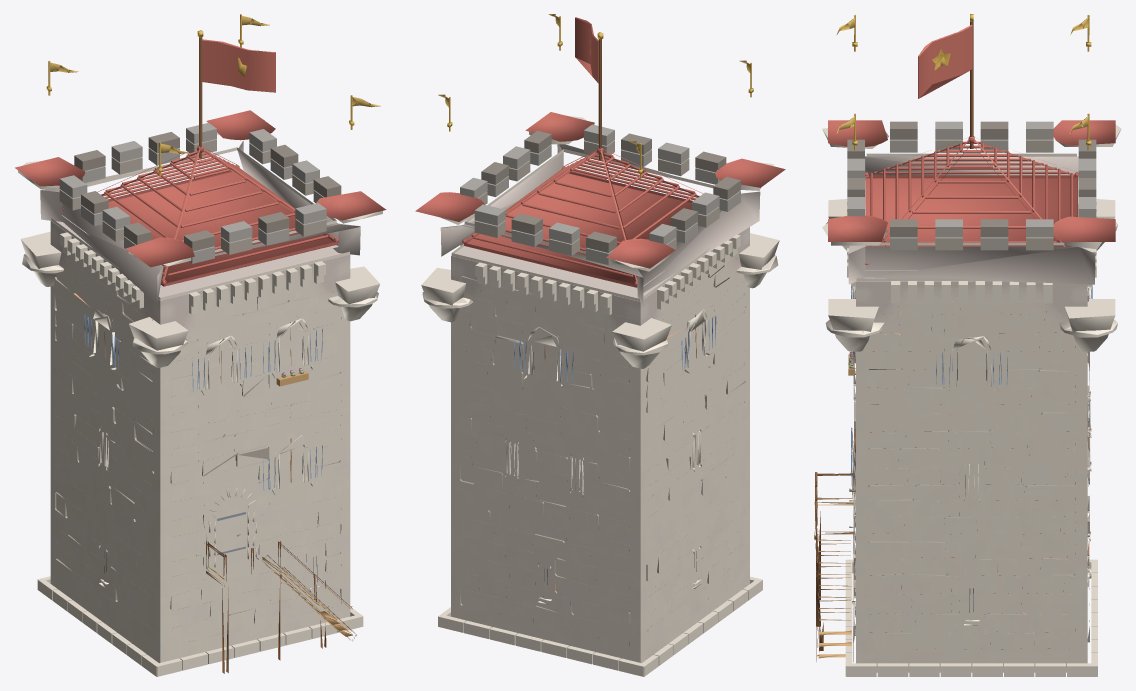
3 views of the same model, side by side, from view 1: azimuth 30°, elevation 25°; view 2: azimuth 150°, elevation 25°; view 3: azimuth 270°, elevation 25° (orthographic). The views are drawn at different scales.
Parts seen in each view (by area): view 1: keep_body, keep_details, keep_masonry, keep_trim; view 2: keep_body, keep_details, keep_masonry, keep_trim; view 3: keep_body, keep_details, keep_masonry, keep_trim.
Part boxes in pixels (<box>): keep_body: <box>15,110,386,662</box>; keep_details: <box>18,36,382,676</box>; keep_masonry: <box>54,122,341,638</box>; keep_trim: <box>46,14,380,377</box>; keep_body: <box>415,112,785,663</box>; keep_details: <box>421,39,779,676</box>; keep_masonry: <box>459,124,745,646</box>; keep_trim: <box>438,14,753,177</box>; keep_body: <box>828,120,1115,672</box>; keep_details: <box>814,21,1121,676</box>; keep_masonry: <box>847,121,1096,649</box>; keep_trim: <box>836,14,1091,365</box>.
Bounding box in the file's own units: 8.88 × 20.25 × 9.26.
16 materials, 1 textured.
